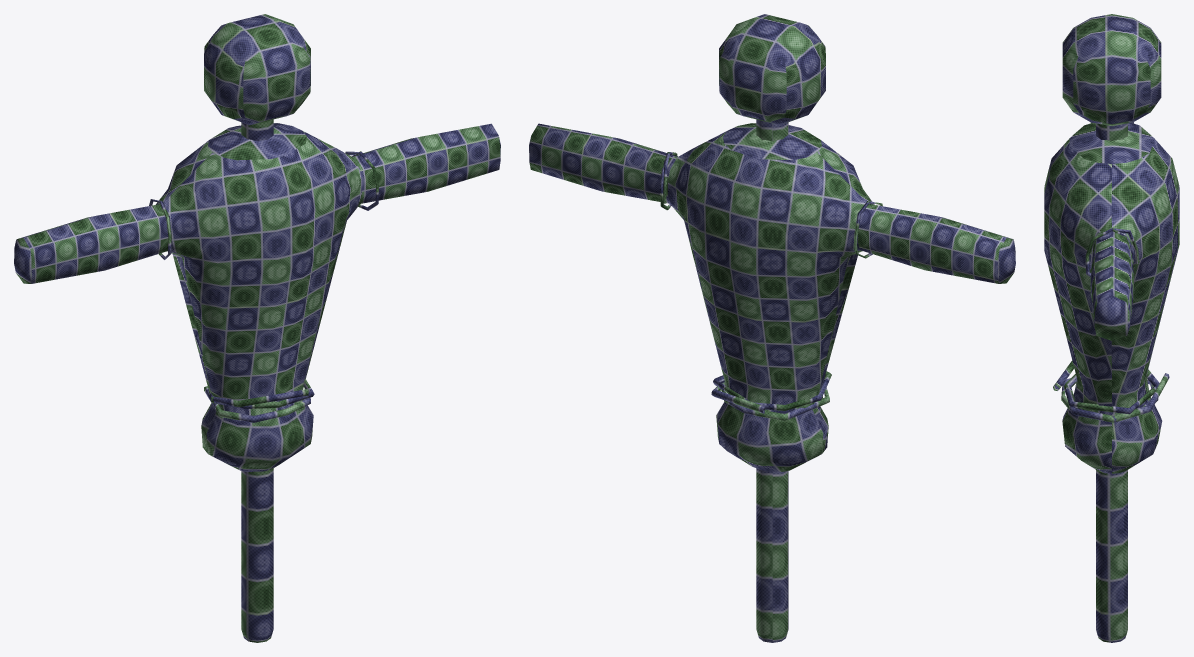
Rendered from M_StrawTarget.FBX.
3 views of the same model, side by side, from view 1: azimuth 30°, elevation 25°; view 2: azimuth 150°, elevation 25°; view 3: azimuth 270°, elevation 25° (orthographic).
Parts seen in each view (by area): view 1: Lower; view 2: Lower; view 3: Lower.
Boxes of the visible parts, x1,y1,x2,y2 form: Lower: (14,14,500,642); Lower: (529,14,1015,642); Lower: (1044,14,1179,642).
Size of the model in its own units: 1.6 by 1.92 by 0.3855.
1 material, 1 textured.
